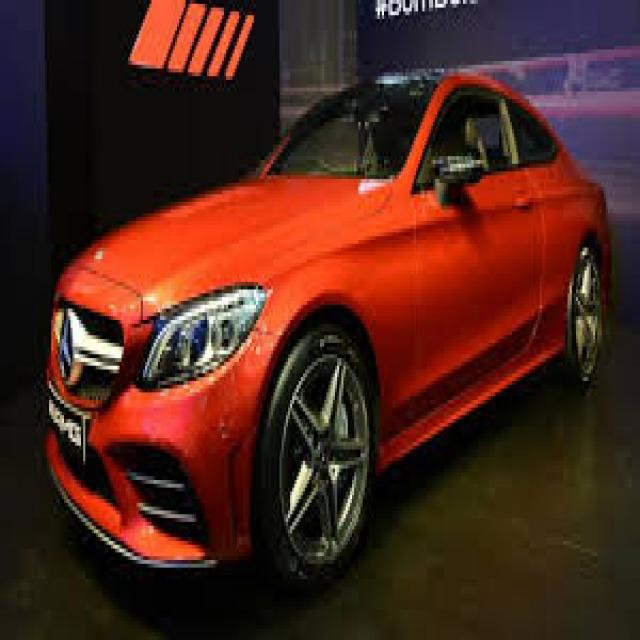car: (32, 61, 617, 587)
